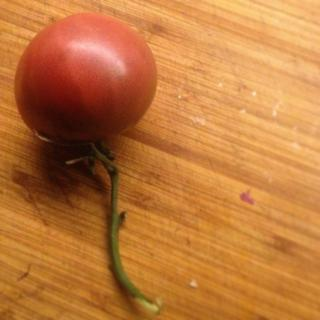tomato: (7, 14, 159, 146)
